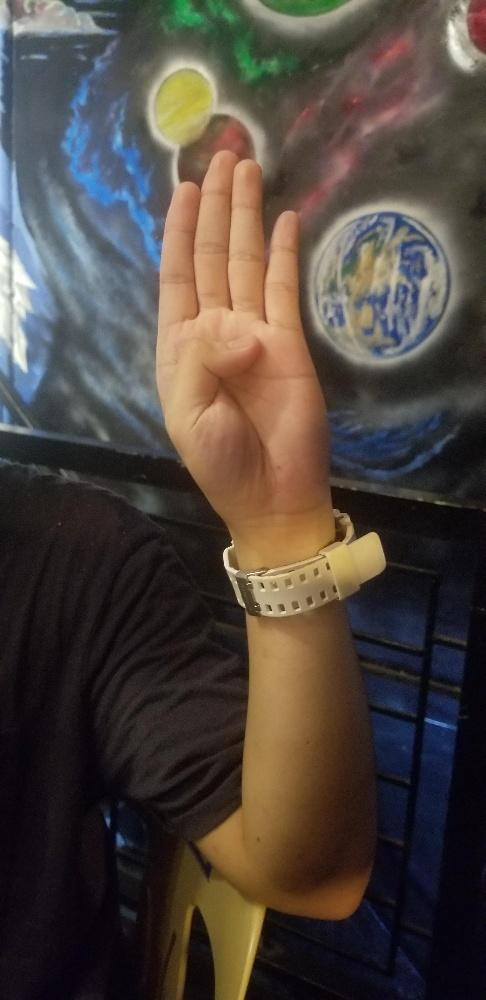b: (153, 146, 332, 493)
